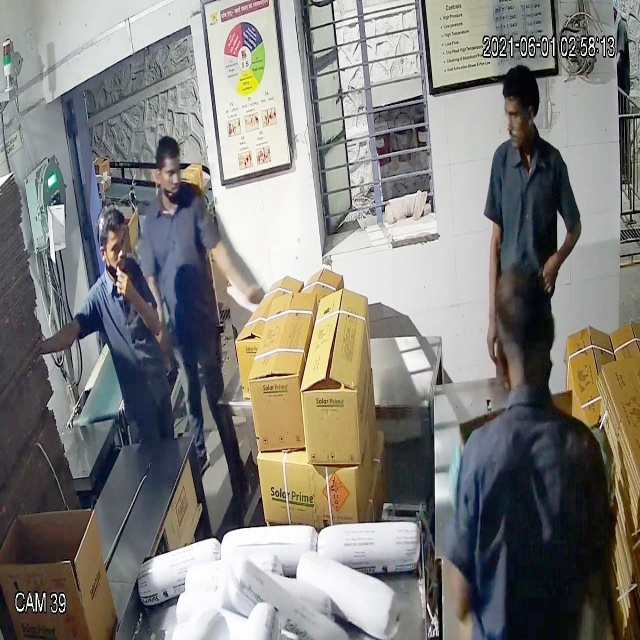Sin_gafas: (96, 232, 136, 265)
